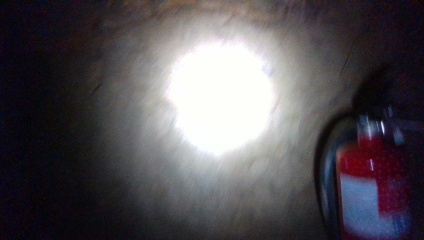fire_extinguisher: (309, 66, 421, 237)
